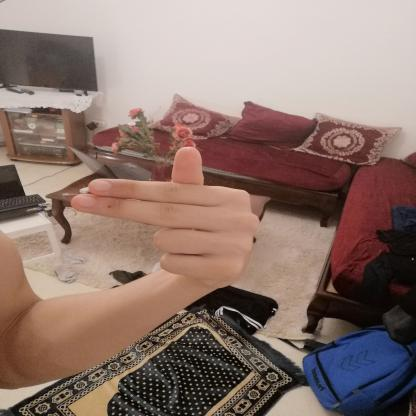GHAYN: (60, 138, 268, 300)
